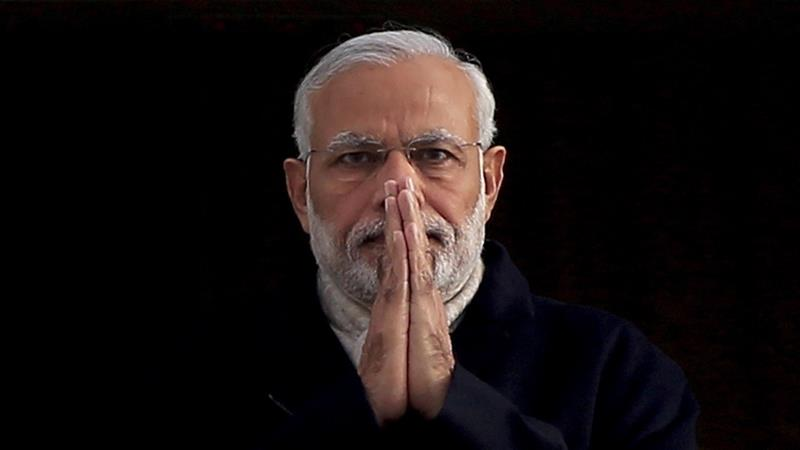modi: (252, 26, 526, 415)
